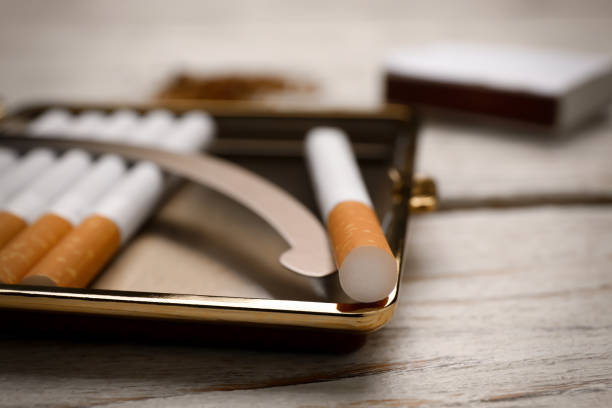cigarette: (18, 110, 214, 291), (0, 108, 175, 282), (0, 109, 139, 250), (305, 125, 400, 304), (0, 109, 106, 212), (0, 108, 73, 176)
